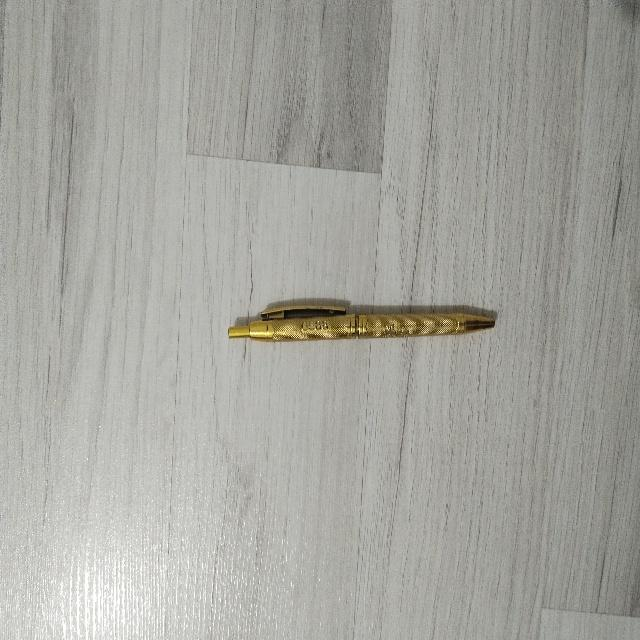signature pen: (228, 305, 494, 341)
